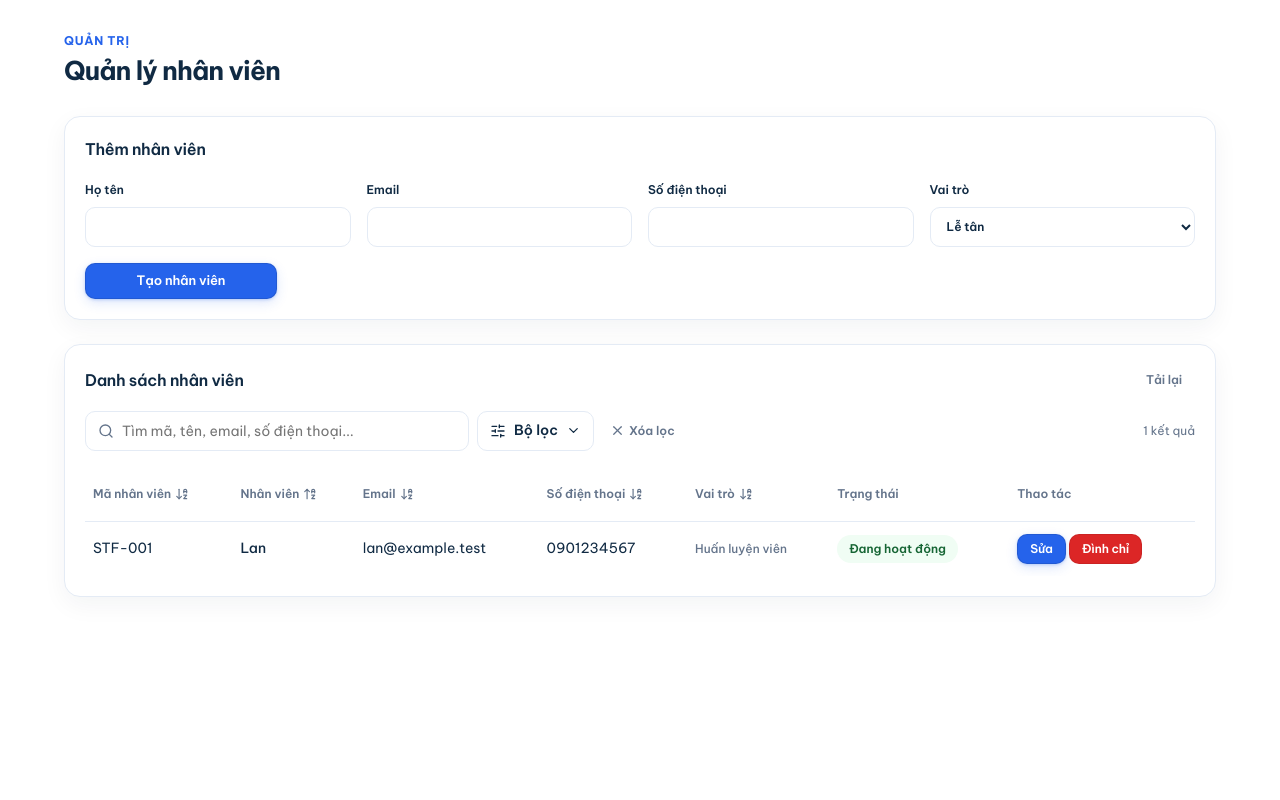
it: StaffPage › blocks a too-short phone before updating an existing staff member
Click the button "Sửa": (1042, 549) [1017,534,1066,564]
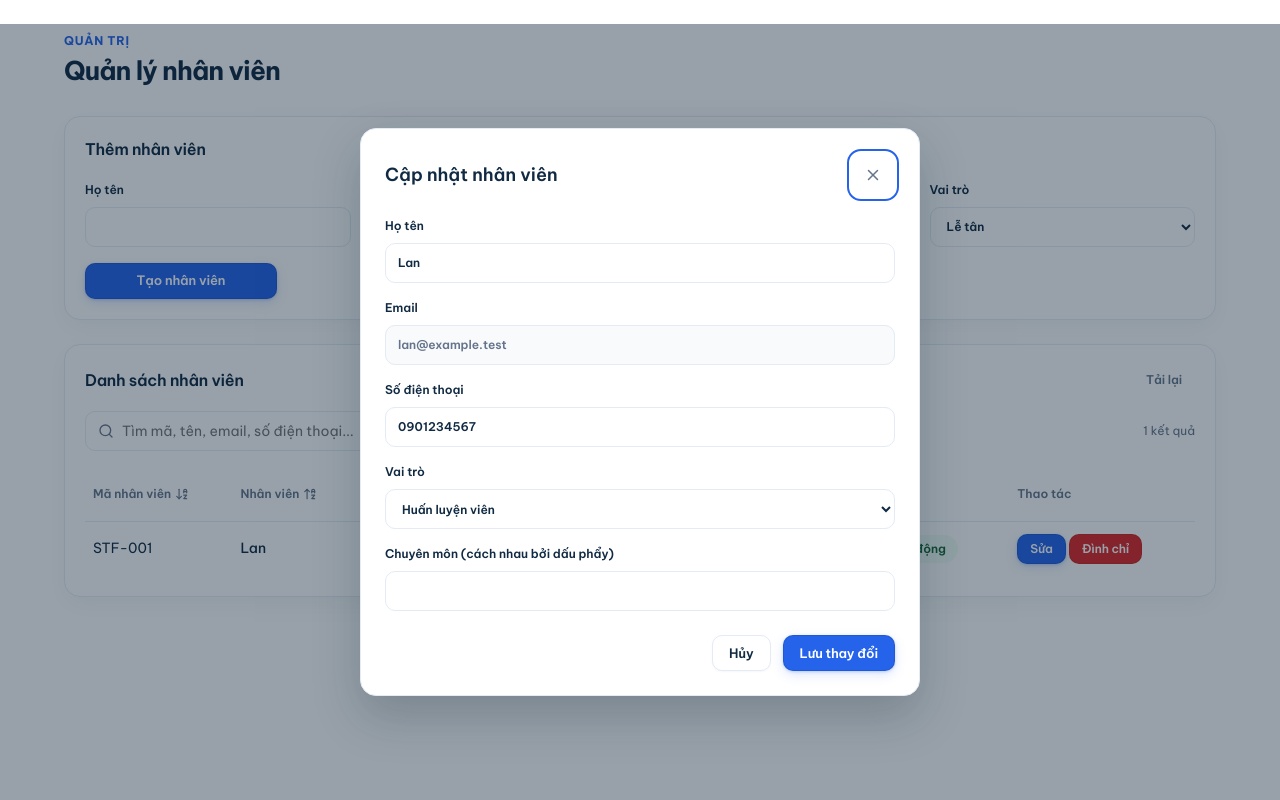
Replace the text in the field labelled "Số điện thoại" with "123": (640, 427) [385,407,895,447]
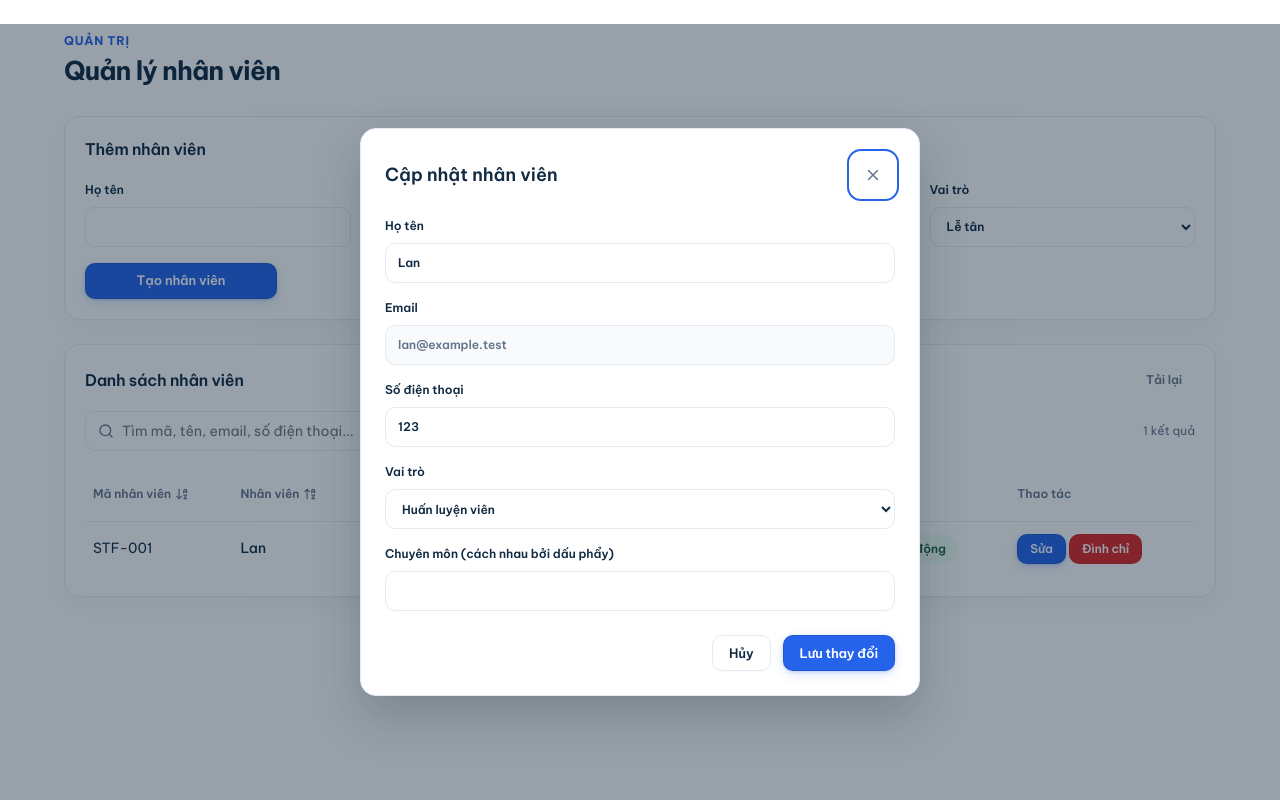
Click the button "Lưu thay đổi": (839, 653) [782,635,895,671]
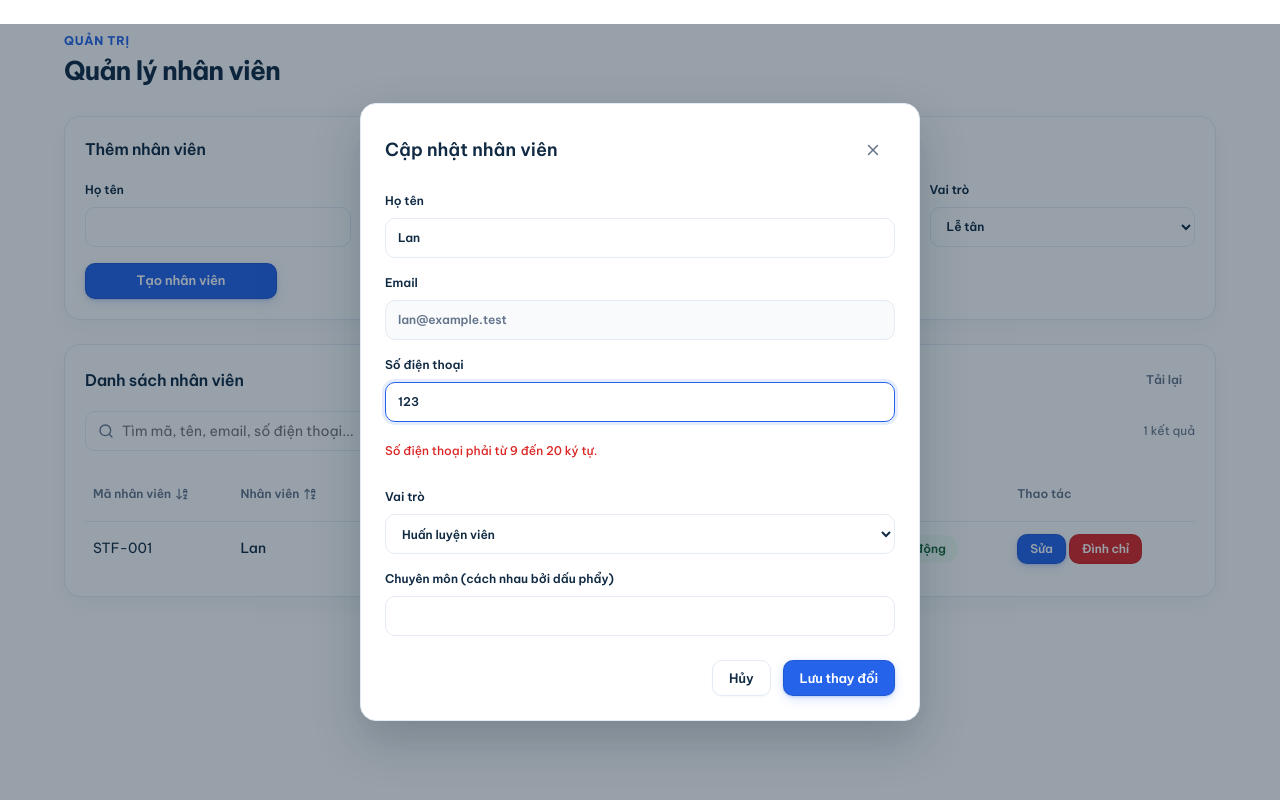
Now the message reads "Số điện thoại phải từ 9 đến 20 ký tự.", box [385,443,597,458]
